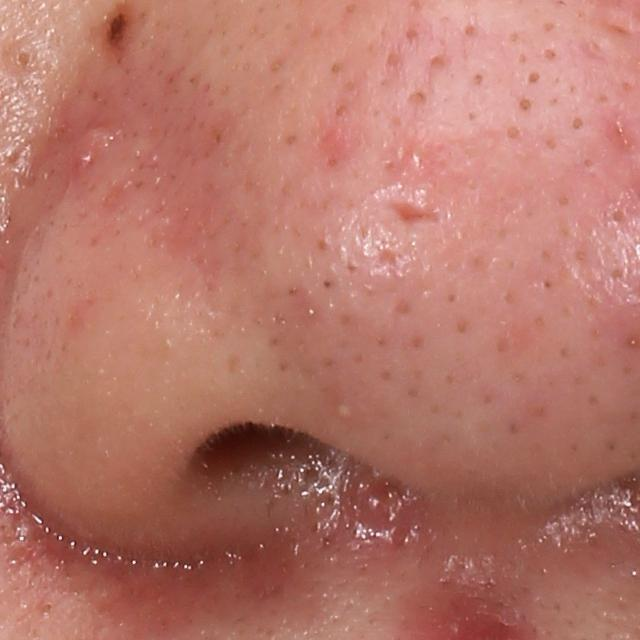comedo: (6, 39, 44, 78), (401, 87, 431, 114), (511, 91, 538, 117), (537, 42, 559, 67), (520, 65, 541, 89), (608, 205, 628, 230), (567, 113, 587, 135), (506, 121, 522, 141), (39, 601, 56, 617)
